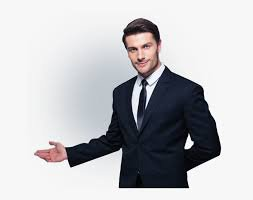noMask: (119, 16, 170, 77)
